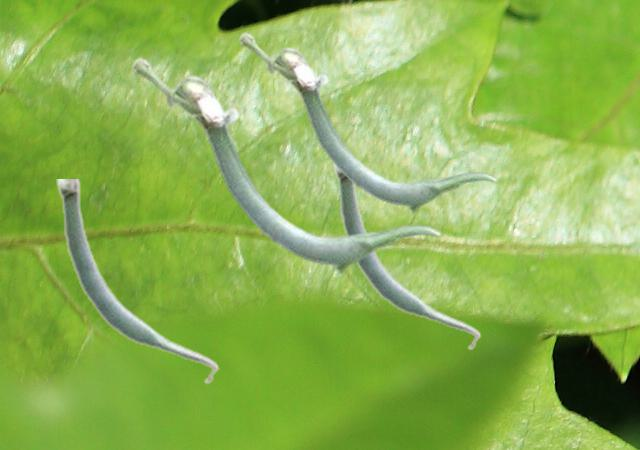french_bean: (131, 56, 441, 274), (238, 31, 497, 213), (56, 179, 218, 384), (333, 164, 480, 350)
